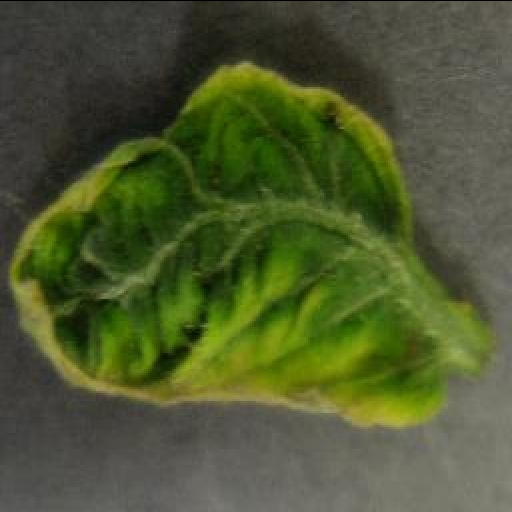disease_tomato: (6, 58, 448, 426)
